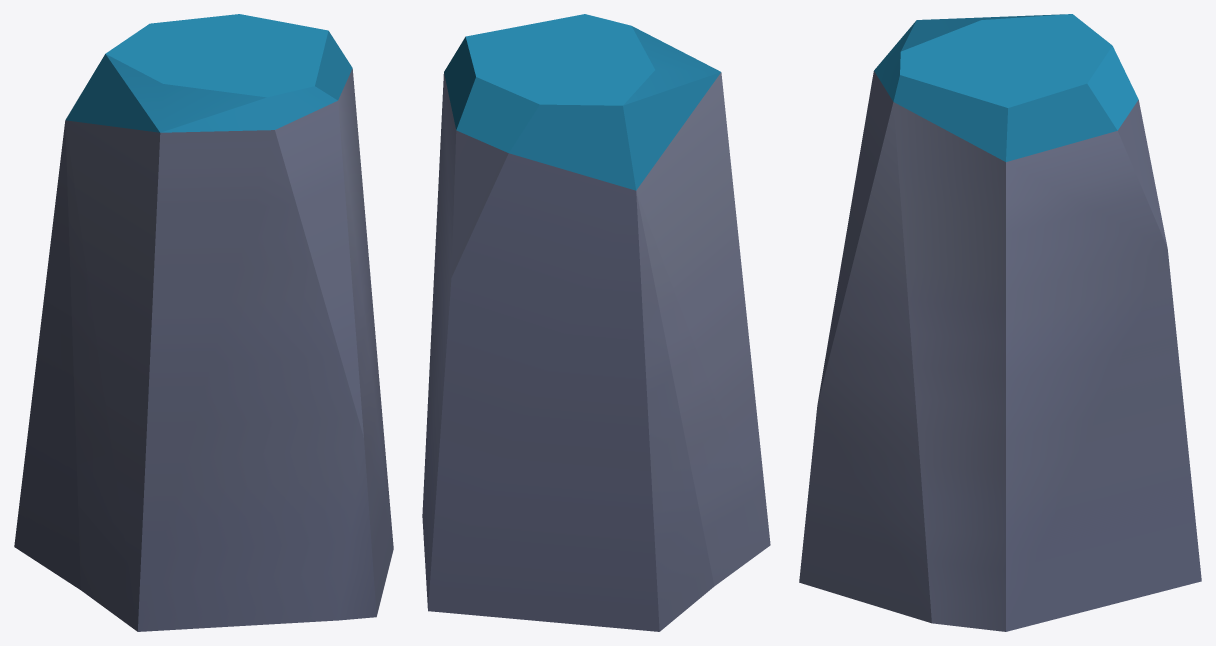
File: factory-cliff.obj
The picture shows the model from 3 angles, left to right: view 1: azimuth 30°, elevation 25°; view 2: azimuth 150°, elevation 25°; view 3: azimuth 270°, elevation 25°; orthographic projection. The views are drawn at different scales.
Parts seen in each view (by area): view 1: factory-cliff; view 2: factory-cliff; view 3: factory-cliff.
Boxes of the visible parts, x1,y1,x2,y2 form: factory-cliff: (14, 14, 393, 631); factory-cliff: (422, 14, 770, 631); factory-cliff: (799, 14, 1201, 631).
Bounding box in the file's own units: 23.66 × 37.46 × 27.25.
Materials: 1 (1 with a texture image).
